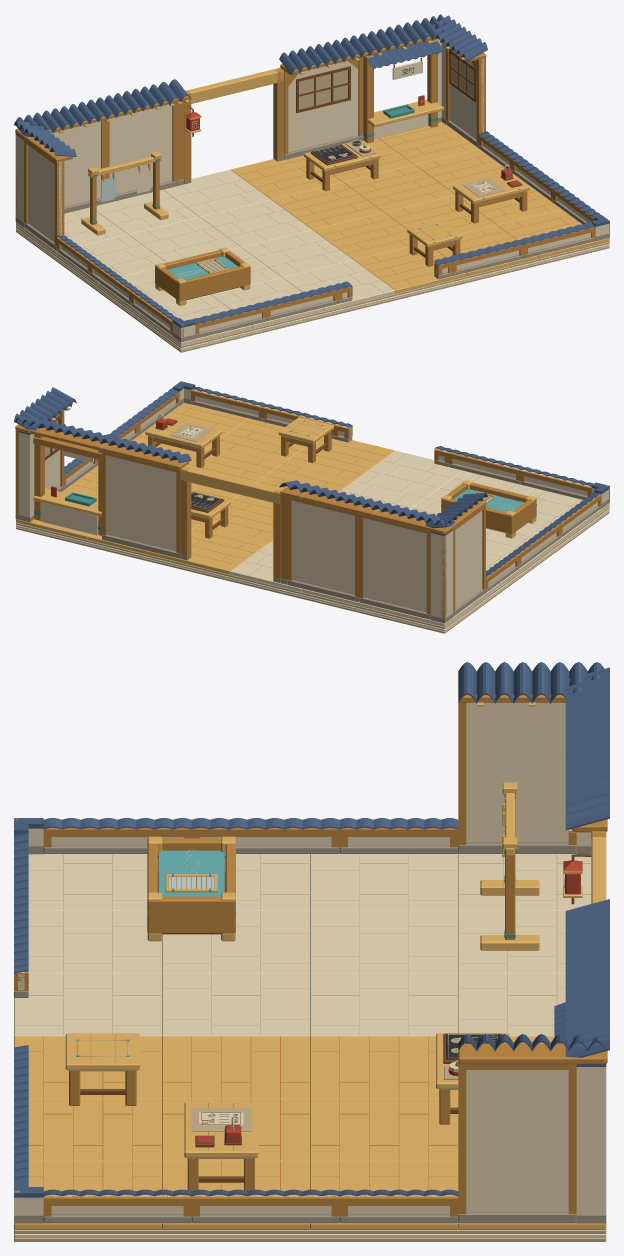
The model's file is 首关_开张第一单_v01_20261110.glb.
3 renders of one model, top to bottom at view 1: azimuth 30°, elevation 25°; view 2: azimuth 150°, elevation 25°; view 3: azimuth 270°, elevation 25°, orthographic. The views are drawn at different scales.
Parts seen in each view (by area): view 1: wall_back_01_paper_panel, wall_back_03_paper_panel, env_floor_courtyard_02_02_slab, env_floor_courtyard_02_01_slab, env_floor_workshop_03_02_slab, env_floor_workshop_04_02_slab, env_floor_courtyard_02_03_slab, env_floor_workshop_03_01_slab, env_floor_courtyard_01_02_slab, wall_back_00_paper_panel, env_floor_workshop_03_00_slab, env_floor_workshop_03_03_slab (+55 smaller); view 2: wall_back_03_paper_panel, wall_back_01_paper_panel, wall_back_00_paper_panel, env_floor_courtyard_02_00_slab, env_floor_workshop_03_03_slab, env_floor_workshop_03_00_slab, wall_left_back_paper_panel, env_floor_workshop_04_00_slab, env_floor_workshop_03_02_slab, corner_back_left_paper_L, env_floor_workshop_04_01_slab, foundation_layer_0 (+60 smaller); view 3: wall_right_back_paper_panel, wall_left_back_paper_panel, env_floor_courtyard_02_01_slab, env_floor_courtyard_02_02_slab, env_floor_courtyard_01_02_slab, env_floor_workshop_03_01_slab, env_floor_workshop_04_02_slab, env_floor_courtyard_02_00_slab, env_floor_courtyard_00_02_slab, env_floor_workshop_04_00_slab, env_floor_workshop_03_02_slab, env_floor_courtyard_01_00_slab (+66 smaller).
Part boxes in pixels (<box>): wall_back_01_paper_panel: <box>109,104,172,194</box>; wall_back_03_paper_panel: <box>288,61,358,152</box>; env_floor_courtyard_02_02_slab: <box>200,200,311,247</box>; env_floor_courtyard_02_01_slab: <box>242,230,353,277</box>; env_floor_workshop_03_02_slab: <box>272,182,383,229</box>; env_floor_workshop_04_02_slab: <box>343,165,454,212</box>; env_floor_courtyard_02_03_slab: <box>162,169,270,217</box>; env_floor_workshop_03_01_slab: <box>313,212,422,260</box>; env_floor_courtyard_01_02_slab: <box>129,217,240,262</box>; wall_back_00_paper_panel: <box>50,121,100,207</box>; env_floor_workshop_03_00_slab: <box>354,243,466,293</box>; env_floor_workshop_03_03_slab: <box>231,155,342,199</box>; wall_back_03_paper_panel: <box>106,455,176,551</box>; wall_back_01_paper_panel: <box>292,500,354,595</box>; wall_back_00_paper_panel: <box>364,518,426,612</box>; env_floor_courtyard_02_00_slab: <box>354,450,462,498</box>; env_floor_workshop_03_03_slab: <box>159,524,270,574</box>; env_floor_workshop_03_00_slab: <box>283,436,394,480</box>; wall_left_back_paper_panel: <box>455,511,482,608</box>; env_floor_workshop_04_00_slab: <box>220,418,305,463</box>; env_floor_workshop_03_02_slab: <box>200,495,273,541</box>; corner_back_left_paper_L: <box>430,530,452,618</box>; env_floor_workshop_04_01_slab: <box>184,446,282,483</box>; foundation_layer_0: <box>16,506,609,629</box>; wall_right_back_paper_panel: <box>466,1070,568,1212</box>; wall_left_back_paper_panel: <box>466,702,568,843</box>; env_floor_courtyard_02_01_slab: <box>162,973,309,1036</box>; env_floor_courtyard_02_02_slab: <box>310,973,458,1036</box>; env_floor_courtyard_01_02_slab: <box>310,911,458,973</box>; env_floor_workshop_03_01_slab: <box>162,1036,309,1099</box>; env_floor_workshop_04_02_slab: <box>310,1098,458,1161</box>; env_floor_courtyard_02_00_slab: <box>14,973,161,1036</box>; env_floor_courtyard_00_02_slab: <box>310,853,458,911</box>; env_floor_workshop_04_00_slab: <box>28,1098,161,1161</box>; env_floor_workshop_03_02_slab: <box>310,1036,458,1099</box>; env_floor_courtyard_01_00_slab: <box>28,911,161,973</box>.
Bounding box in the file's own units: 12.1 × 3.03 × 8.05.
